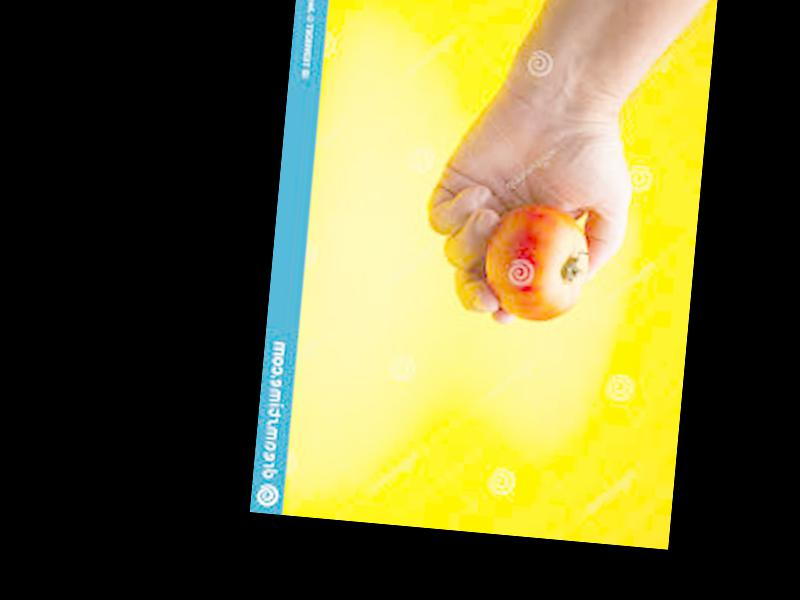Tomato: (481, 201, 592, 324)
